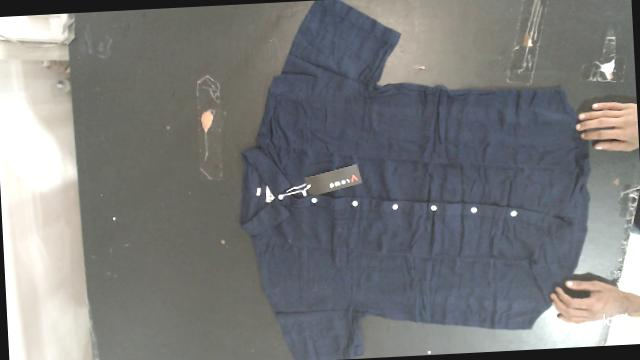new-garment: (240, 0, 589, 360)
